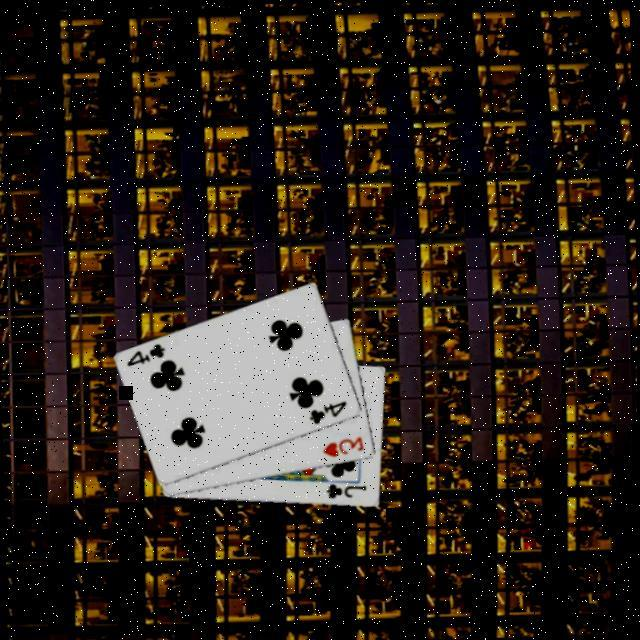3H: (318, 431, 366, 458)
4C: (304, 396, 348, 426), (122, 338, 166, 368)
JC: (322, 478, 368, 500)
